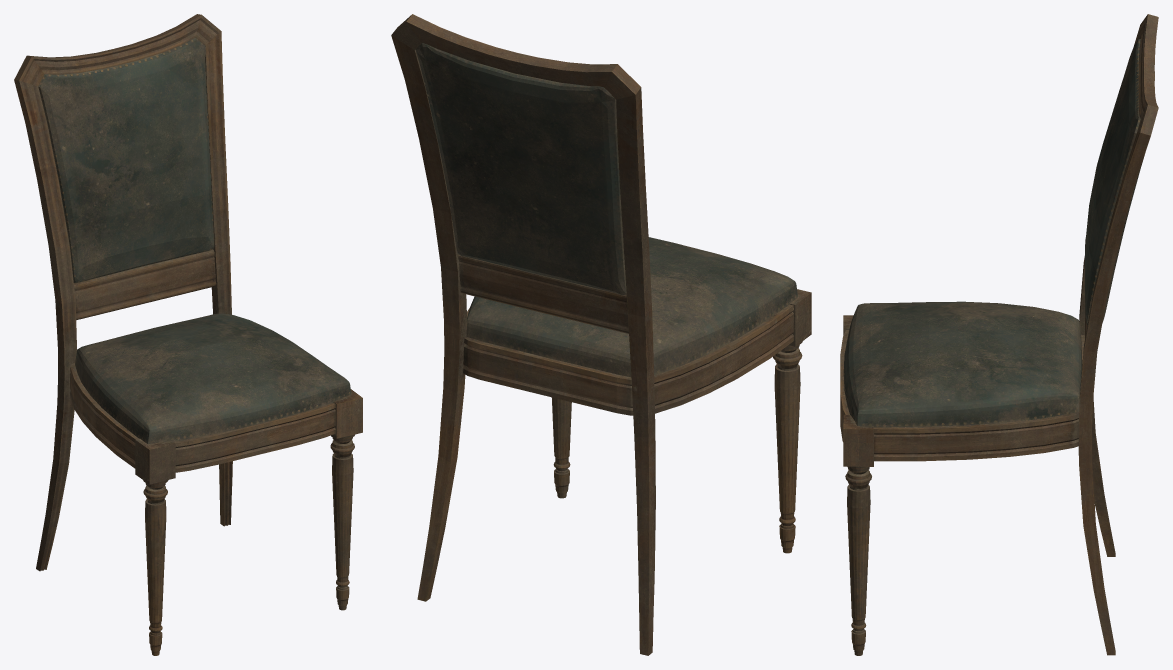
Rendered from old-chair.glb.
3 renders of one model, left to right at view 1: azimuth 30°, elevation 25°; view 2: azimuth 150°, elevation 25°; view 3: azimuth 270°, elevation 25°, orthographic. The views are drawn at different scales.
Size of the model in its own units: 1.12 by 2.5 by 1.32.
Materials: 1 (1 with a texture image).
